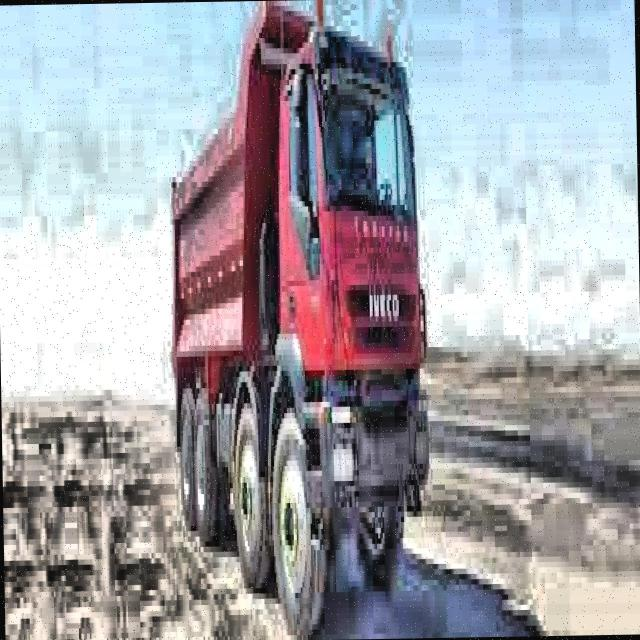dump_truck: (162, 10, 438, 632)
